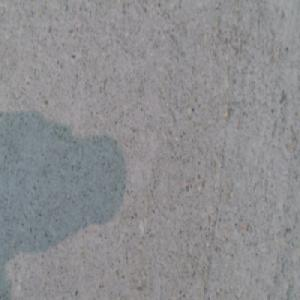Washer: (138, 286, 161, 300)
